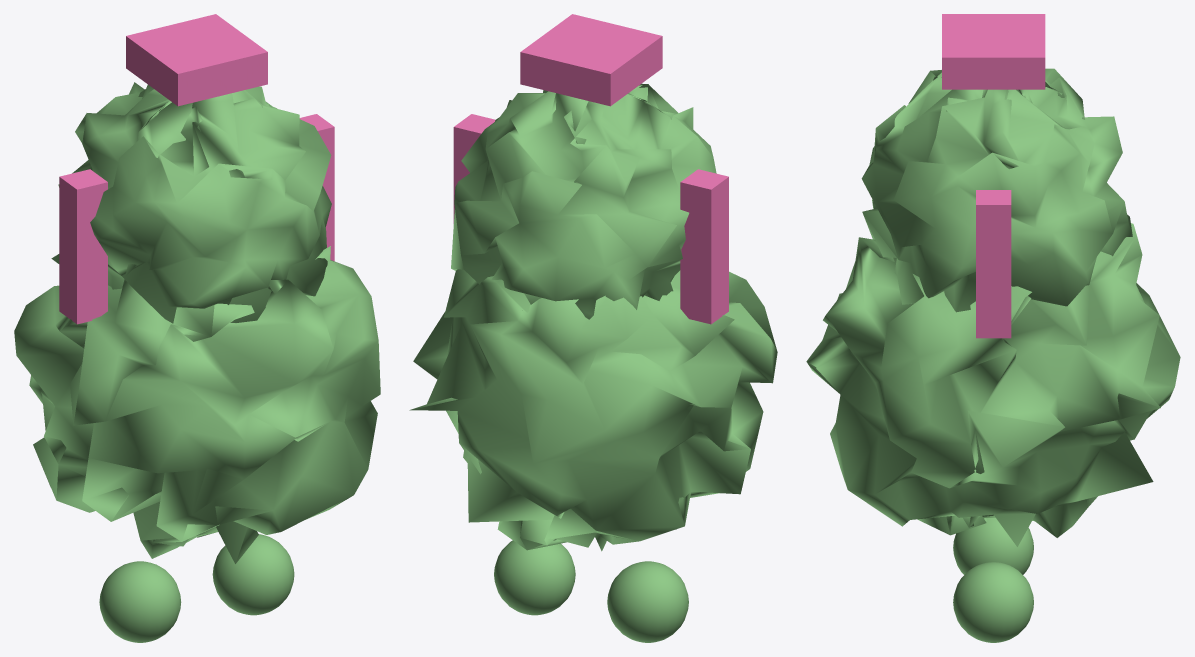
Rendered from clay_bounce_frog.glb.
3 renders of one model, left to right at view 1: azimuth 30°, elevation 25°; view 2: azimuth 150°, elevation 25°; view 3: azimuth 270°, elevation 25°, orthographic.
Visible parts, largest first — view 1: hat; view 2: hat; view 3: hat.
Boxes of the visible parts, box(x1,y1,x2,y2) form: hat: box(14, 14, 380, 642); hat: box(409, 14, 777, 642); hat: box(806, 14, 1180, 642).
Bounding box in the file's own units: 1.2 × 2.16 × 1.27.
